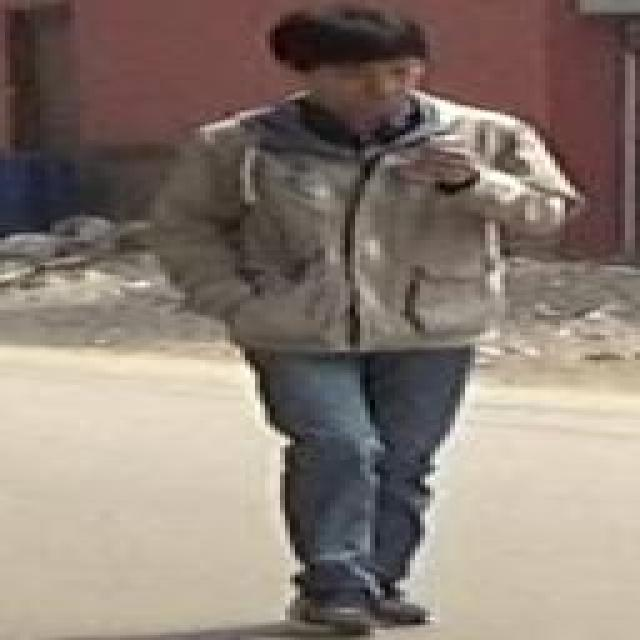adult: (148, 1, 600, 638)
